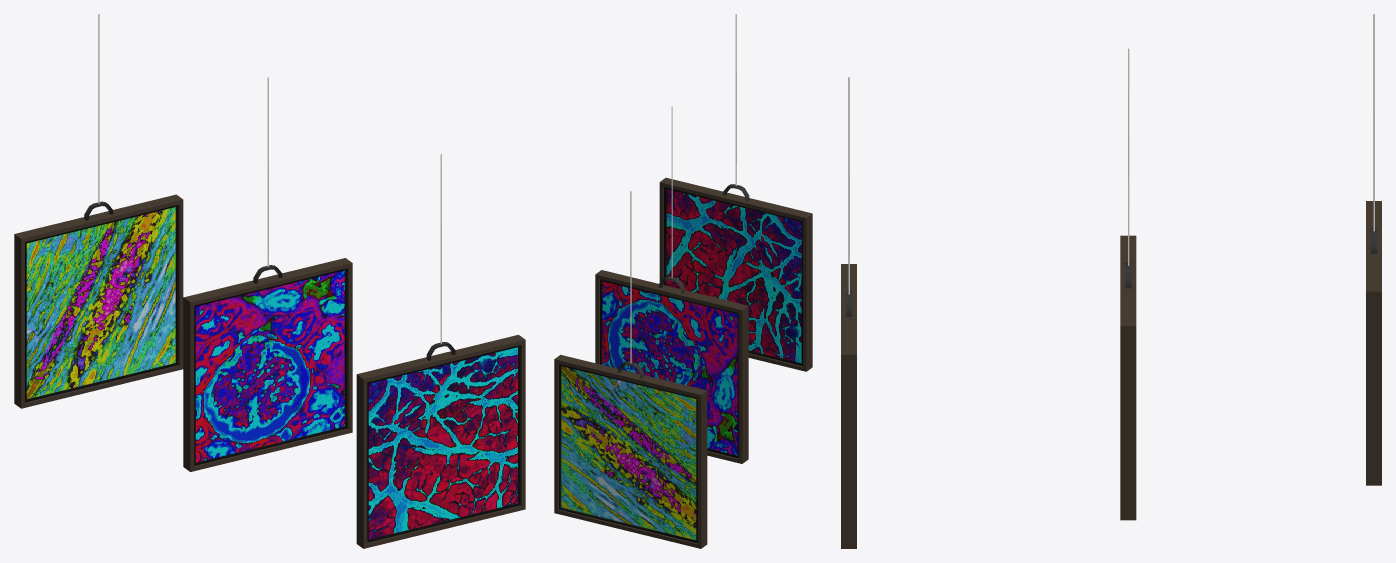
Rendered from histopopart.gltf.
3 views of the same model, side by side, from view 1: azimuth 30°, elevation 25°; view 2: azimuth 150°, elevation 25°; view 3: azimuth 270°, elevation 25° (orthographic). The views are drawn at different scales.
Visible parts, largest first — view 1: RahmenBilder.001, RahmenBilder.002, RahmenBilder.003; view 2: RahmenBilder.003, RahmenBilder.002, RahmenBilder.001; view 3: RahmenBilder.001, RahmenBilder.002, RahmenBilder.003.
Part boxes in pixels (x1,y1,x2,y2): RahmenBilder.001: (183, 77, 352, 471); RahmenBilder.002: (356, 154, 525, 548); RahmenBilder.003: (14, 14, 183, 408); RahmenBilder.003: (554, 191, 707, 548); RahmenBilder.002: (659, 14, 812, 371); RahmenBilder.001: (595, 106, 748, 463); RahmenBilder.001: (1120, 48, 1136, 520); RahmenBilder.002: (841, 77, 856, 548); RahmenBilder.003: (1366, 14, 1381, 485).
Size of the model in its own units: 3.06 by 3.96 by 4.55.
2 materials, 2 textured.
